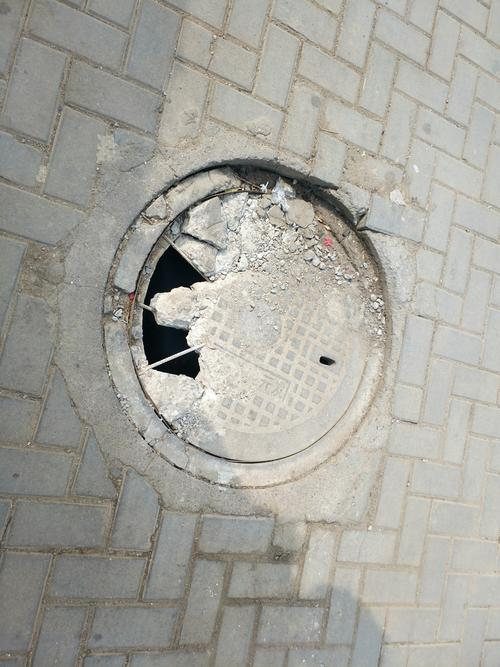broke: (90, 134, 395, 522)
